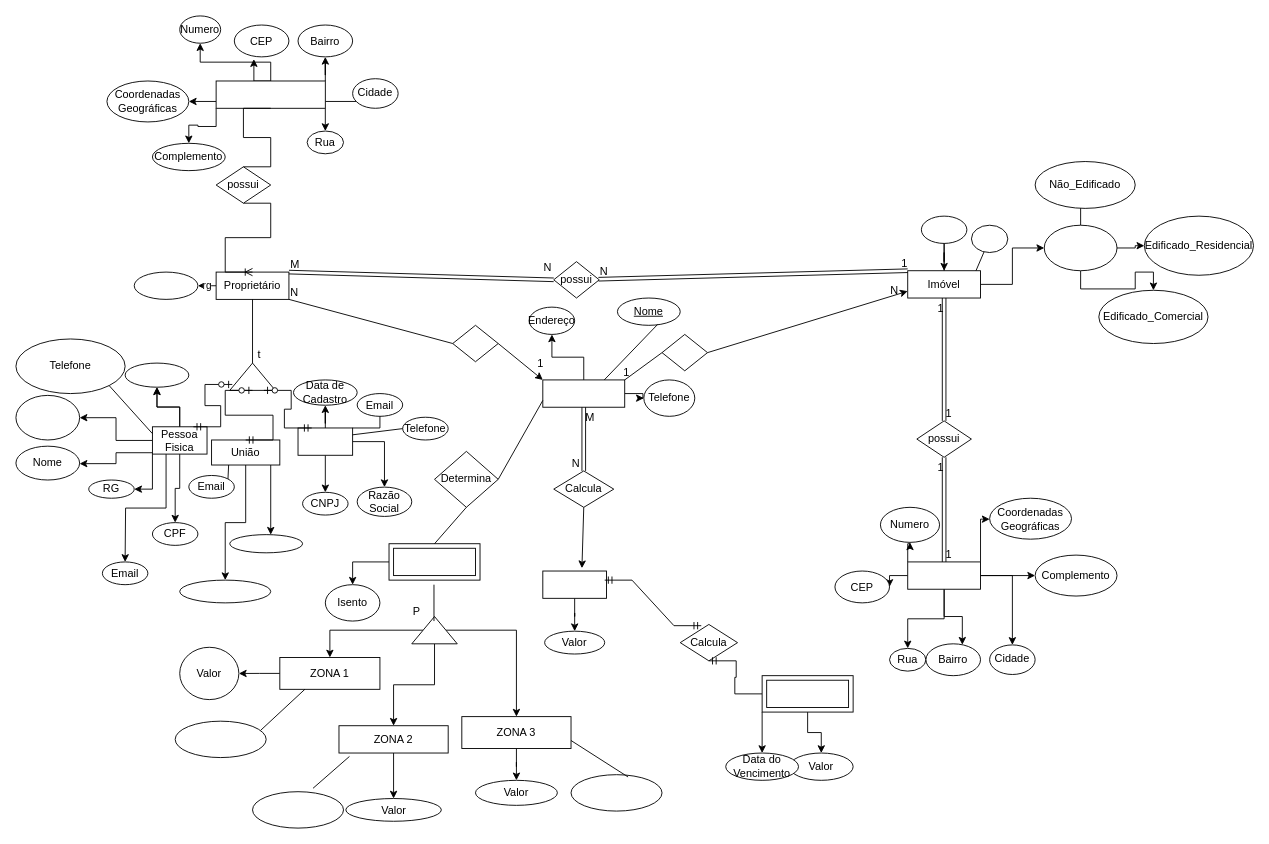
Image size: 1269x844. Some labels were removed from this diagram. Here are the shapes that lost their labels. From the top down, the centre of each, then its label:
At [270,94]: "Endereço_Prop".
At [943,229]: "ID".
At [989,238]: "RGI".
At [1080,247]: "Tipo".
At [165,285]: "ID_PPROP".
At [475,343]: "paga".
At [684,352]: "tributa".
At [156,374]: "Nome da Mãe".
At [583,393]: "Prefeitura".
At [47,417]: "Data de Nascimento".
At [325,441]: "Pessoa Jurídica".
At [266,543]: "Orgão".
At [434,561]: "Alíquota".
At [225,591]: "Tombamento".
At [574,584]: "Valor Venal".
At [944,575]: "Endereço Imóvel".
At [807,693]: "IPTU".
At [220,739]: "Coord_Poligono1".
At [298,809]: "Coord_Poligono2".
At [616,792]: "Coord_Polígono3".
